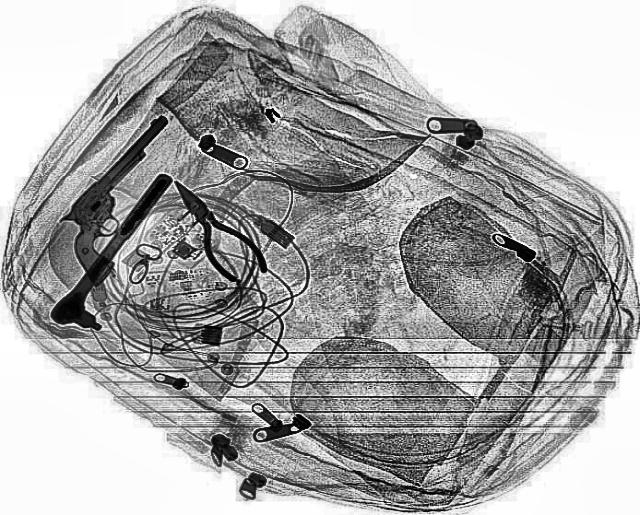Gun: (25, 112, 231, 286)
Pliers: (152, 172, 274, 286)
